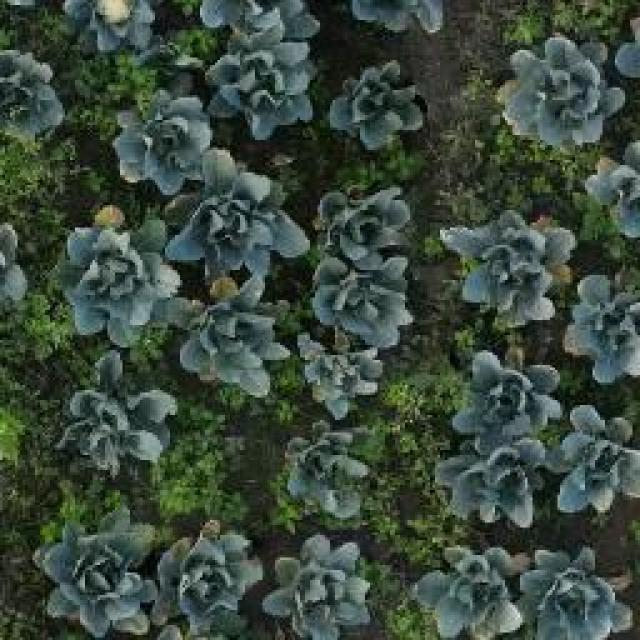cabbage: (169, 152, 312, 279), (60, 206, 182, 343), (57, 351, 179, 484), (440, 207, 575, 323), (152, 518, 273, 640), (108, 72, 220, 192), (203, 29, 317, 146), (43, 516, 152, 638), (493, 25, 605, 143), (448, 340, 560, 458), (172, 280, 282, 400), (263, 534, 382, 640), (520, 543, 640, 640), (414, 542, 523, 640), (431, 446, 548, 530), (312, 259, 416, 351), (558, 400, 640, 516), (328, 56, 428, 149), (283, 423, 372, 520), (565, 275, 640, 383), (316, 184, 414, 262), (290, 336, 390, 412), (0, 48, 67, 154), (55, 0, 157, 55), (586, 140, 640, 237)
